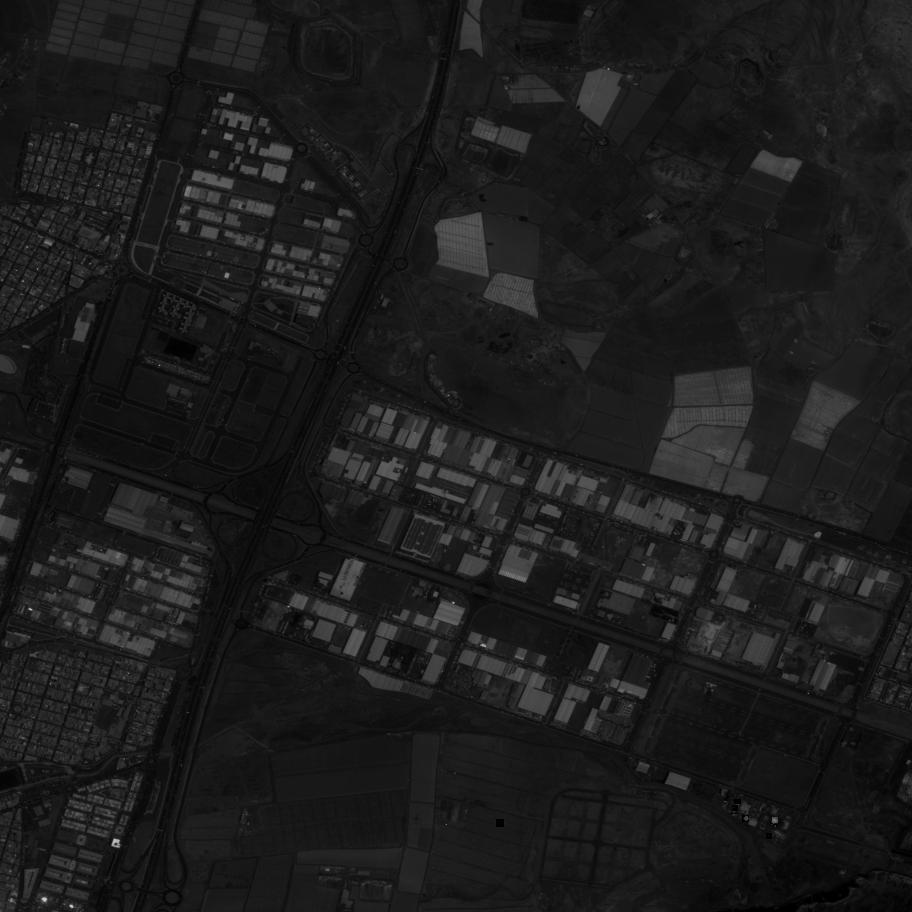plane: (496, 819, 504, 826)
storage-tank: (743, 815, 750, 823), (772, 817, 779, 823), (732, 805, 738, 811), (767, 833, 772, 839), (735, 800, 741, 803), (731, 811, 737, 813), (774, 824, 777, 827), (771, 822, 773, 823)
